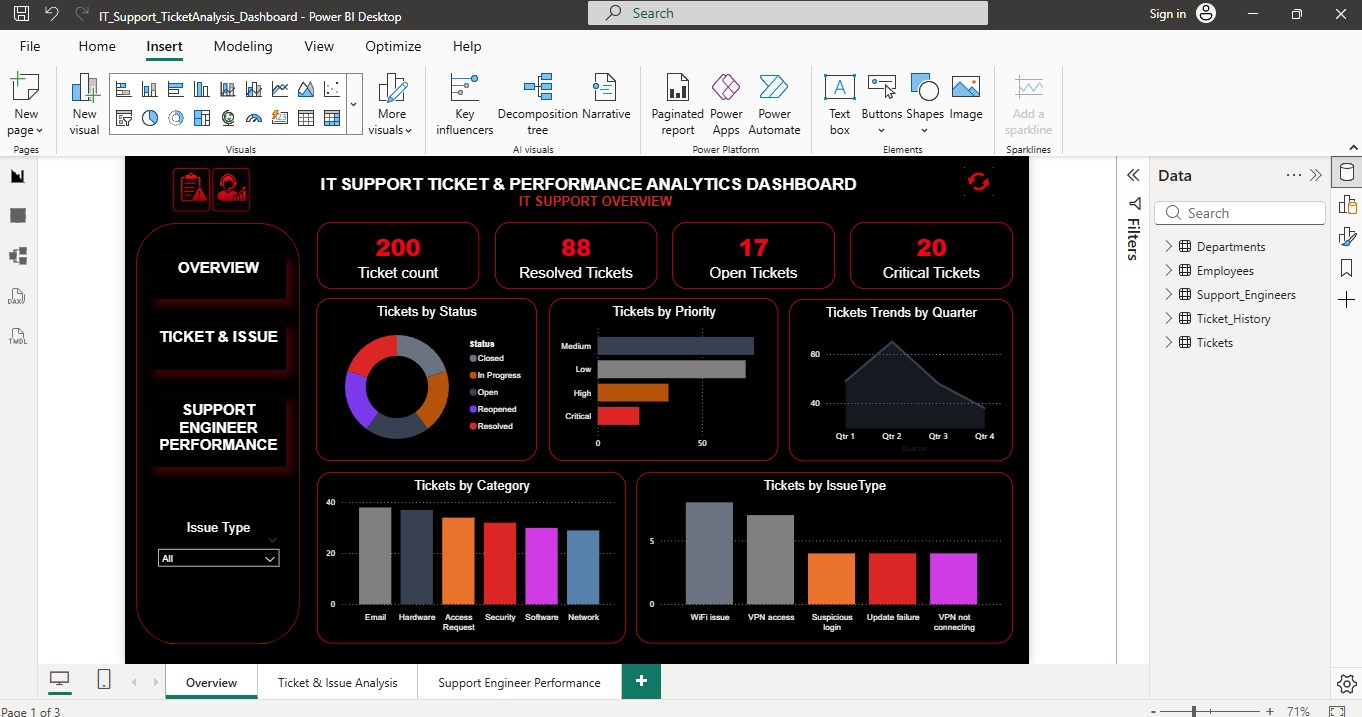

The page's visual inventory and layout, read from the dashboard file:
{"tool":"powerbi","page":{"name":"Overview","canvas":[1280,720],"ordinal":0},"visuals":[{"type":"shape","box":[16.1,94.7,232.4,597.1],"z":0},{"type":"card","title":"All Time","fields":{"Values":["Departments.Ticket count"]},"box":[272.1,93.5,229.6,95],"z":1000},{"type":"card","title":"All Time","fields":{"Values":["Departments.Resolved Tickets"]},"box":[524.4,93.5,229.6,95],"z":2000},{"type":"card","title":"All Time","fields":{"Values":["Departments.Open Tickets"]},"box":[775.3,93.5,231,95],"z":3000},{"type":"card","title":"All Time","fields":{"Values":["Departments.Critical Tickets"]},"box":[1027.6,93.5,231,95],"z":4000},{"type":"donutChart","title":"Tickets by Status","fields":{"Category":["Ticket_History.Status"],"Y":["Departments.Ticket count"]},"box":[271.1,201.2,312.5,231.2],"z":5000},{"type":"clusteredBarChart","title":"Tickets by Priority","fields":{"Y":["Departments.Ticket count"],"Category":["Tickets.Priority"]},"box":[600.8,201.2,325.4,231.2],"z":6000},{"type":"lineChart","title":"Tickets Trends by Quarter","fields":{"Y":["Departments.Ticket count"],"Category":["Tickets.Created_Date.Variation.Date Hierarchy.Quarter"]},"box":[941.8,202.6,316.8,229.7],"z":7000},{"type":"columnChart","title":"Tickets by Category","fields":{"Category":["Tickets.Category"],"Y":["Departments.Ticket count"]},"box":[272.1,446.5,438,242.4],"z":8000},{"type":"clusteredColumnChart","title":"Tickets by IssueType","fields":{"Y":["Departments.Ticket count"],"Category":["Tickets.Issue_Type"]},"box":[724.9,448.1,533.7,242.6],"z":9000},{"type":"slicer","title":"Issue Type","fields":{"Values":["Tickets.Issue_Type"]},"box":[37.4,516.2,191.5,105.1],"z":10000},{"type":"textbox","title":"Overview","box":[37.5,141.2,191.3,60.8],"z":11000},{"type":"textbox","title":"Ticket & Issue","box":[37.5,239.6,191.3,64.4],"z":12000},{"type":"textbox","title":"Support Engineer Performace","box":[37.5,343.2,191.3,98.3],"z":13000},{"type":"actionButton","box":[38.3,141.7,190,60],"z":14000},{"type":"actionButton","box":[36.7,240,190,60],"z":15000},{"type":"actionButton","box":[40,343.3,190,90],"z":16000},{"type":"textbox","box":[271.7,21.7,790,71.7],"z":17000},{"type":"image","box":[1181.5,15.7,55.7,41.4],"z":18000},{"type":"actionButton","box":[1179.9,16.1,55.4,39.3],"z":19000},{"type":"image","box":[40,8.6,165.5,79.9],"z":19001}]}

Visuals, with their boxes on the page's 1280x720 design canvas (x1, y1, x2, y2). These are canvas units, not pixel positions in the 1362x717 screenshot, which may show the page scaled, cropped or inside an application window:
shape: (16, 95, 248, 692)
"All Time" card: (272, 94, 502, 188)
"All Time" card: (524, 94, 754, 188)
"All Time" card: (775, 94, 1006, 188)
"All Time" card: (1028, 94, 1259, 188)
"Tickets by Status" donutChart: (271, 201, 584, 432)
"Tickets by Priority" clusteredBarChart: (601, 201, 926, 432)
"Tickets Trends by Quarter" lineChart: (942, 203, 1259, 432)
"Tickets by Category" columnChart: (272, 446, 710, 689)
"Tickets by IssueType" clusteredColumnChart: (725, 448, 1259, 691)
"Issue Type" slicer: (37, 516, 229, 621)
"Overview" textbox: (38, 141, 229, 202)
"Ticket & Issue" textbox: (38, 240, 229, 304)
"Support Engineer Performace" textbox: (38, 343, 229, 442)
actionButton: (38, 142, 228, 202)
actionButton: (37, 240, 227, 300)
actionButton: (40, 343, 230, 433)
textbox: (272, 22, 1062, 93)
image: (1182, 16, 1237, 57)
actionButton: (1180, 16, 1235, 55)
image: (40, 9, 206, 88)
